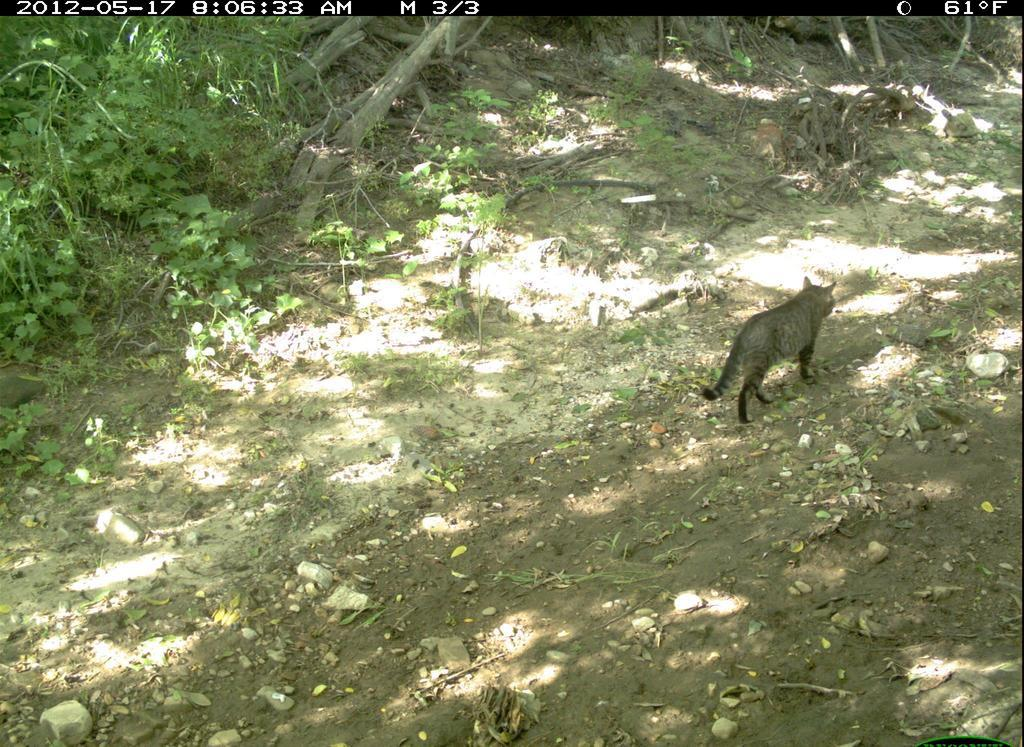cat: (699, 277, 839, 428)
